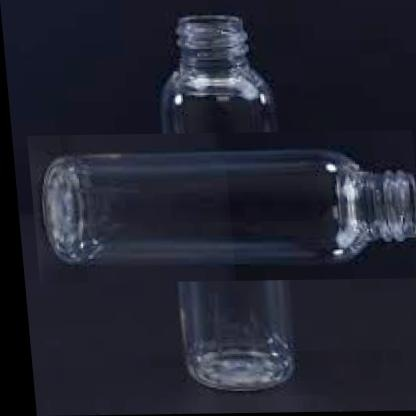trash: (41, 150, 415, 264), (161, 14, 277, 134), (178, 281, 293, 390)
